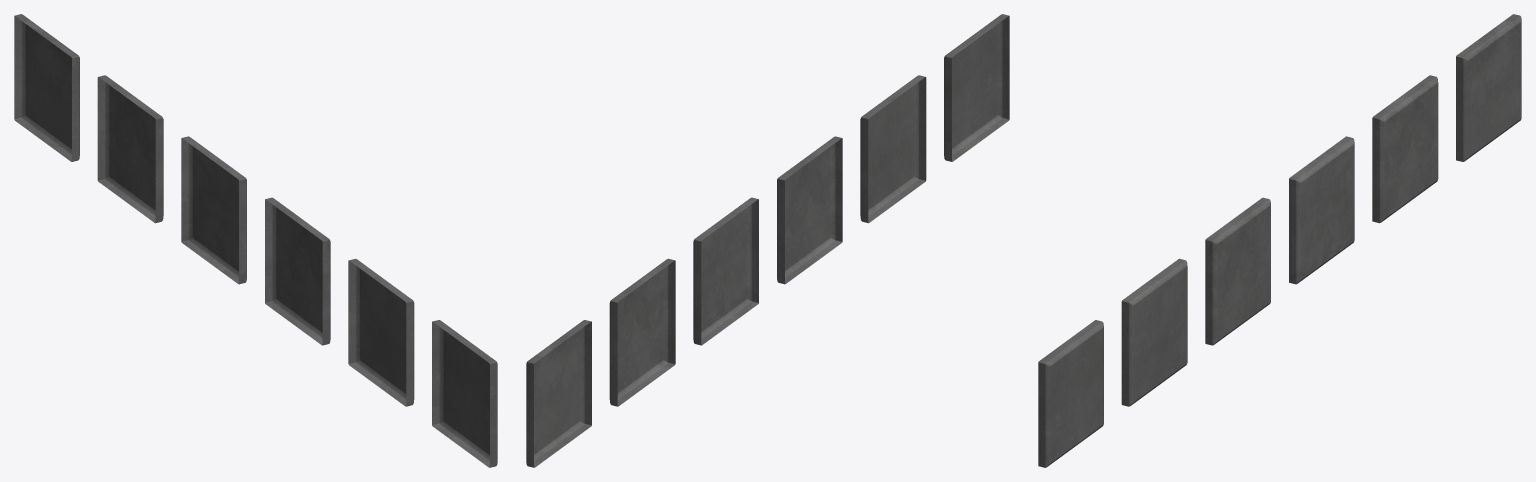
Rendered from cP_Pathway03_SteppingStoneSquare_Comb01.dae.
The picture shows the model from 3 angles, left to right: view 1: azimuth 30°, elevation 25°; view 2: azimuth 150°, elevation 25°; view 3: azimuth 330°, elevation 25°; orthographic projection.
Parts seen in each view (by area): view 1: cP_Pathway03_SteppingStoneSquare_Comb01.001; view 2: cP_Pathway03_SteppingStoneSquare_Comb01.001; view 3: cP_Pathway03_SteppingStoneSquare_Comb01.001.
Part boxes in pixels (bbox=[...]): cP_Pathway03_SteppingStoneSquare_Comb01.001: bbox=[14, 14, 497, 467]; cP_Pathway03_SteppingStoneSquare_Comb01.001: bbox=[526, 14, 1009, 467]; cP_Pathway03_SteppingStoneSquare_Comb01.001: bbox=[1038, 14, 1521, 467].
Size of the model in its own units: 0.0521 by 4.27 by 0.5191.
